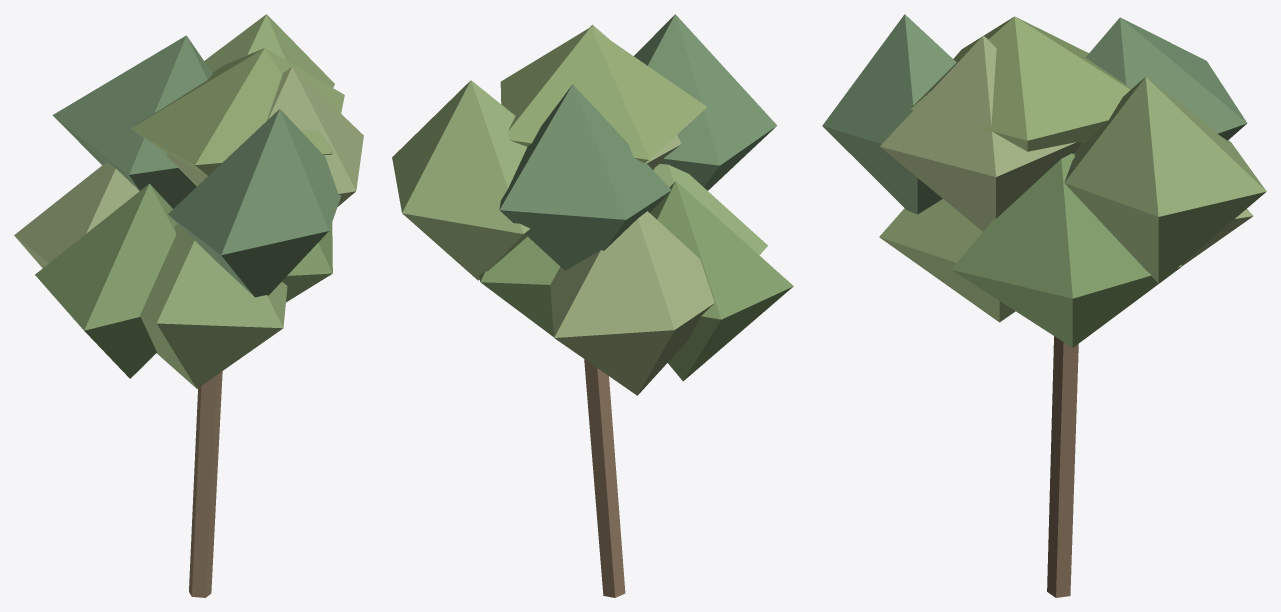
3 views of the same model, side by side, from view 1: azimuth 30°, elevation 25°; view 2: azimuth 150°, elevation 25°; view 3: azimuth 270°, elevation 25° (orthographic). The views are drawn at different scales.
Bounding box in the file's own units: 3.2 × 5.11 × 3.43.
